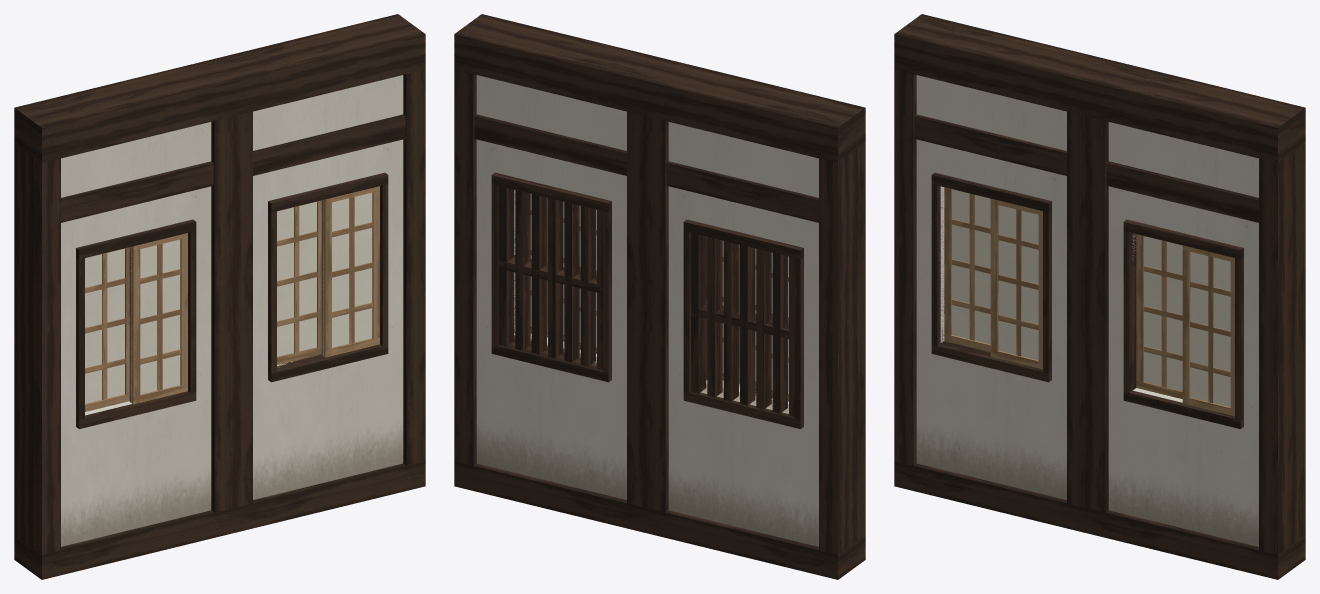
File: HO_Wall_Plaster_Lattice_8.fbx
3 views of the same model, side by side, from view 1: azimuth 30°, elevation 25°; view 2: azimuth 150°, elevation 25°; view 3: azimuth 330°, elevation 25° (orthographic).
Visible parts, largest first — view 1: HO_Wall_Plaster_Lattice_8__Timber_Dark, HO_Wall_Plaster_Lattice_8__Plaster_White, HO_Wall_Plaster_Lattice_8__Shoji_Paper, HO_Wall_Plaster_Lattice_8__Timber_Light; view 2: HO_Wall_Plaster_Lattice_8__Timber_Dark, HO_Wall_Plaster_Lattice_8__Plaster_White, HO_Wall_Plaster_Lattice_8__Shoji_Paper, HO_Wall_Plaster_Lattice_8__Timber_Light; view 3: HO_Wall_Plaster_Lattice_8__Timber_Dark, HO_Wall_Plaster_Lattice_8__Plaster_White, HO_Wall_Plaster_Lattice_8__Shoji_Paper, HO_Wall_Plaster_Lattice_8__Timber_Light.
Part boxes in pixels (x1,y1,x2,y2): HO_Wall_Plaster_Lattice_8__Timber_Dark: (14,14,425,579); HO_Wall_Plaster_Lattice_8__Plaster_White: (61,75,403,546); HO_Wall_Plaster_Lattice_8__Shoji_Paper: (85,192,372,403); HO_Wall_Plaster_Lattice_8__Timber_Light: (85,186,379,411); HO_Wall_Plaster_Lattice_8__Timber_Dark: (454,14,865,579); HO_Wall_Plaster_Lattice_8__Plaster_White: (476,75,818,546); HO_Wall_Plaster_Lattice_8__Shoji_Paper: (530,193,788,392); HO_Wall_Plaster_Lattice_8__Timber_Light: (530,197,788,400); HO_Wall_Plaster_Lattice_8__Timber_Dark: (894,14,1305,579); HO_Wall_Plaster_Lattice_8__Plaster_White: (916,75,1258,546); HO_Wall_Plaster_Lattice_8__Shoji_Paper: (952,189,1230,406); HO_Wall_Plaster_Lattice_8__Timber_Light: (944,187,1234,416).
Size of the model in its own units: 8 by 9 by 1.
